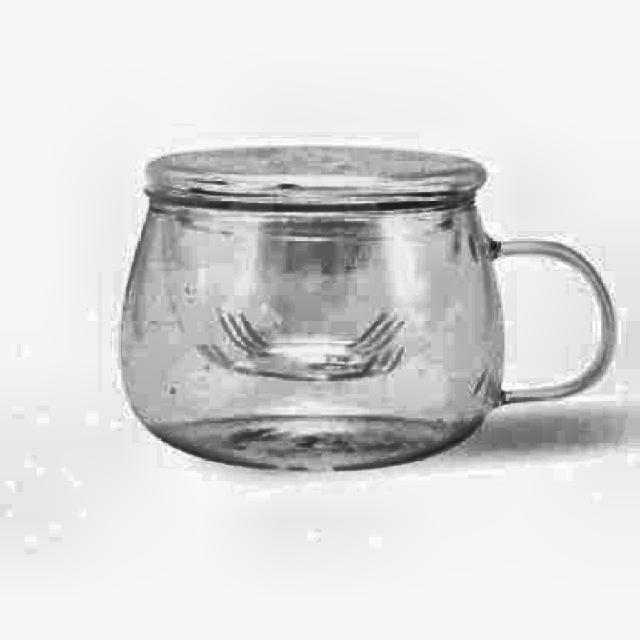Mug: (118, 145, 617, 472)
